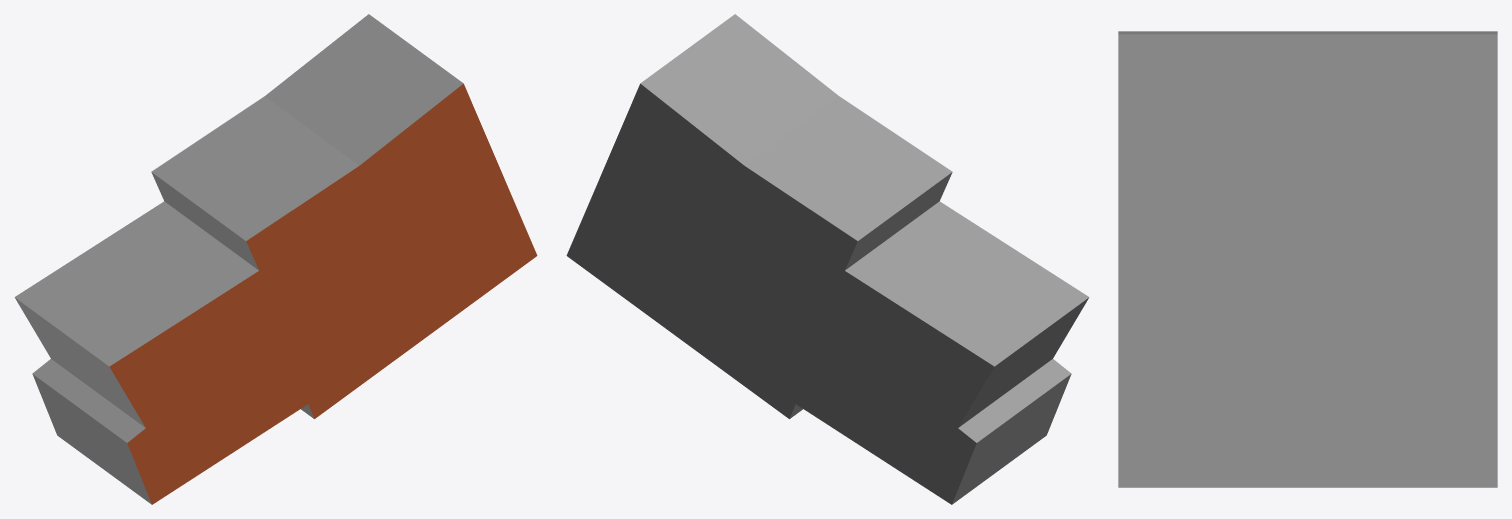
Rendered from construction_0845_assumed_A_Capela_h6m.obj.
The picture shows the model from 3 angles, left to right: view 1: azimuth 30°, elevation 25°; view 2: azimuth 150°, elevation 25°; view 3: azimuth 270°, elevation 25°; orthographic projection. The views are drawn at different scales.
Visible parts, largest first — view 1: construction_0845_assumed_A_Capela; view 2: construction_0845_assumed_A_Capela; view 3: construction_0845_assumed_A_Capela.
Boxes of the visible parts, x1,y1,x2,y2 form: construction_0845_assumed_A_Capela: (14, 14, 537, 504); construction_0845_assumed_A_Capela: (566, 14, 1089, 504); construction_0845_assumed_A_Capela: (1118, 31, 1497, 487).
Bounding box in the file's own units: 15.63 × 12.05 × 6.
